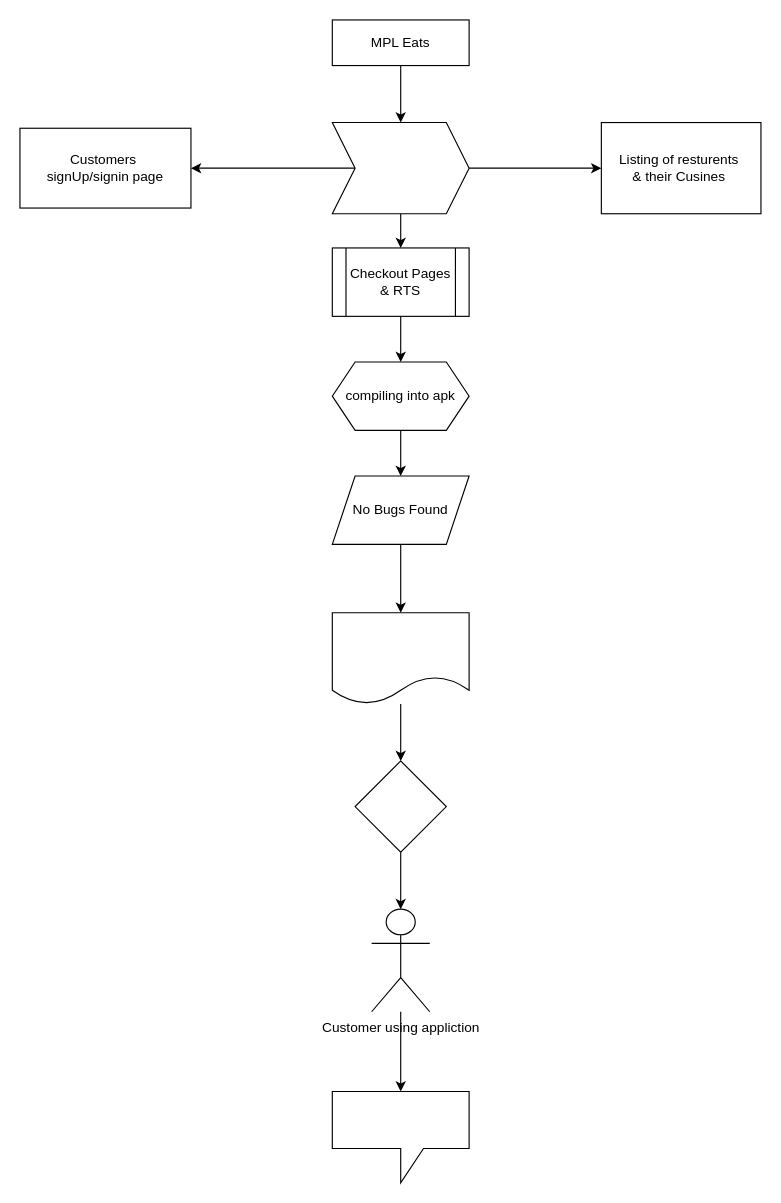
This 781x1203 diagram has some shape labels left out. The box of each missing label's shape, as (x1, y1, x2, y2) in pixels:
Design/UI/UX: (331, 121, 469, 214)
No Feedback Found: (331, 1090, 469, 1183)
Realsing into Appstore: (354, 760, 446, 852)
Writing Permissions For Deployment: (331, 612, 469, 704)
